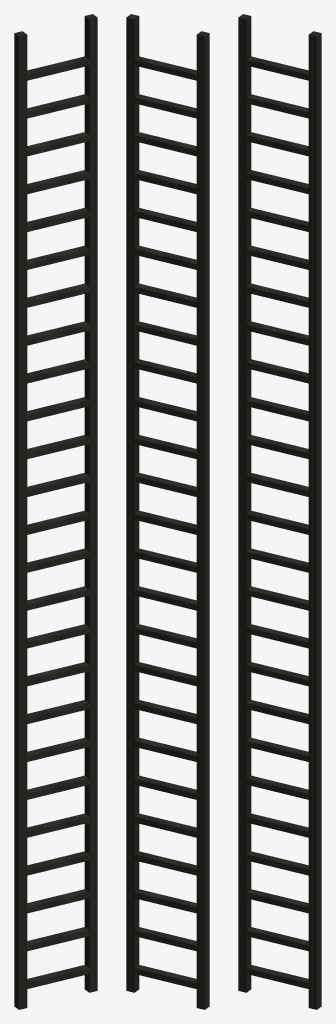
The model's file is env_ladder_metal_9m.glb.
3 views of the same model, side by side, from view 1: azimuth 30°, elevation 25°; view 2: azimuth 150°, elevation 25°; view 3: azimuth 330°, elevation 25° (orthographic).
Visible parts, largest first — view 1: env_ladder_metal_9m; view 2: env_ladder_metal_9m; view 3: env_ladder_metal_9m.
Boxes of the visible parts, box(x1,y1,x2,y2) form: env_ladder_metal_9m: box(14, 14, 97, 1009); env_ladder_metal_9m: box(126, 14, 209, 1009); env_ladder_metal_9m: box(238, 14, 321, 1009).
Size of the model in its own units: 0.76 by 9 by 0.08.
1 material, 1 textured.
